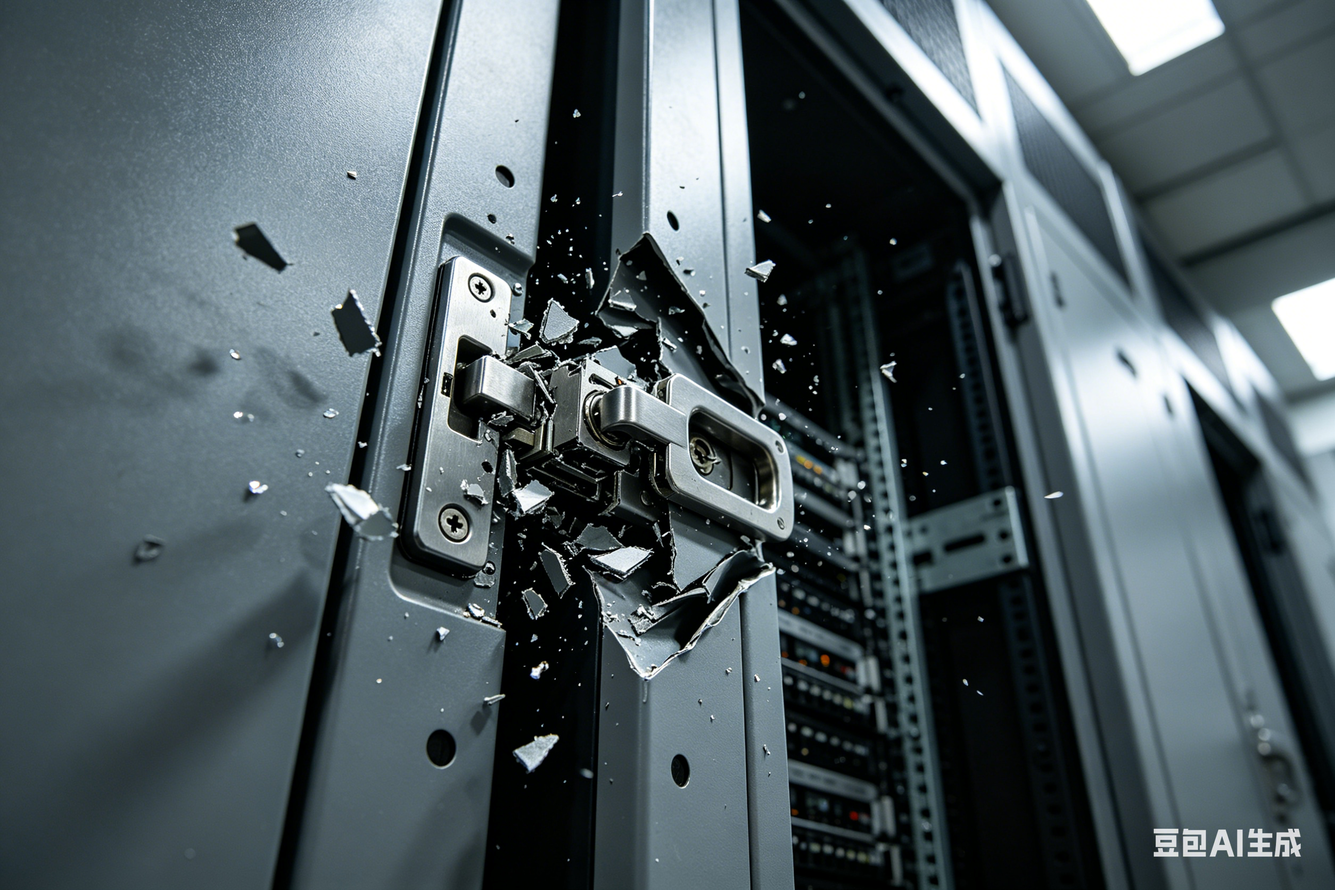BadLock: (486, 249, 682, 610)
